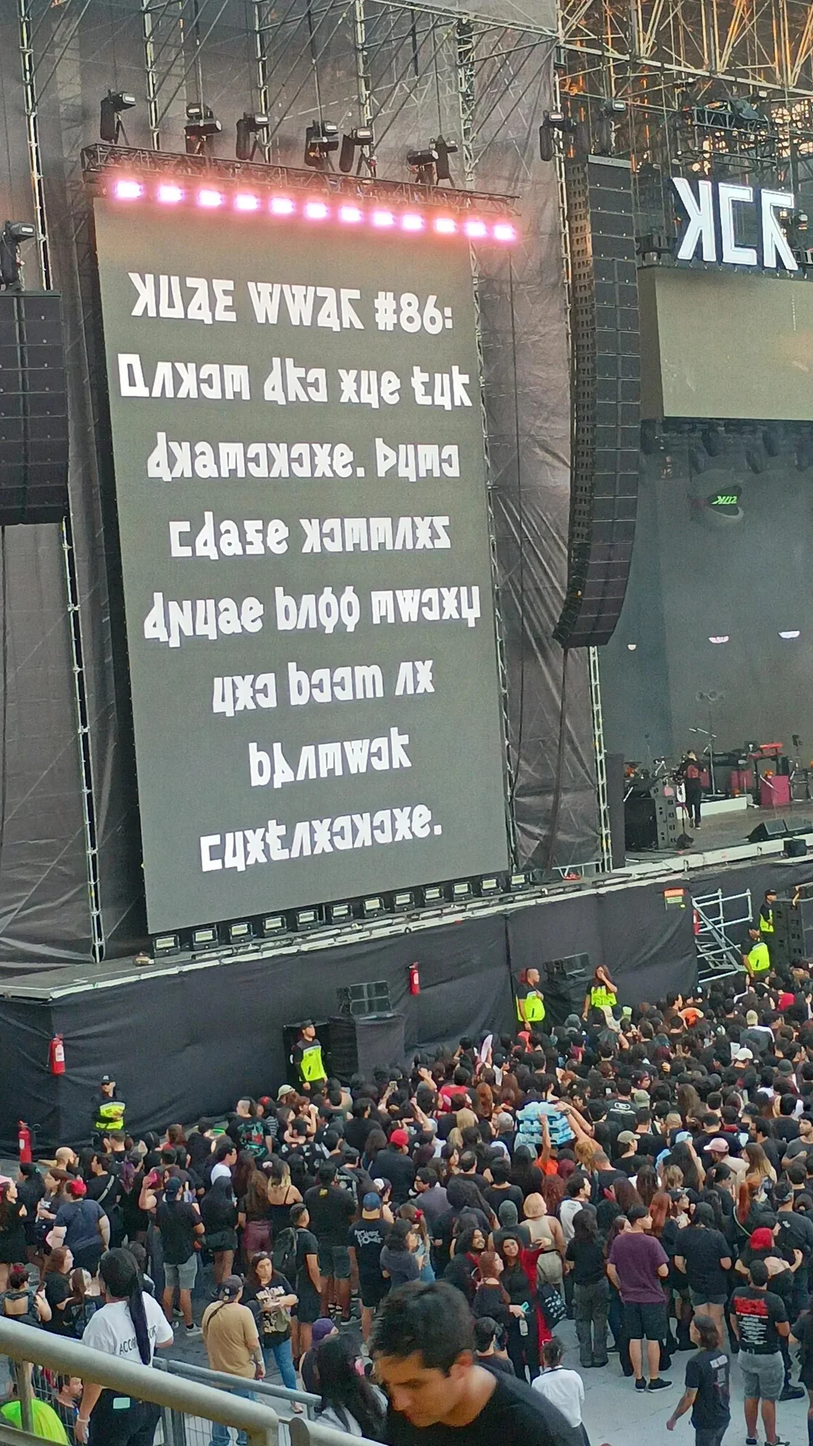6: (420, 291, 446, 337)
8: (397, 290, 423, 336)
A: (184, 273, 216, 325), (312, 282, 342, 336)
CH: (114, 351, 150, 400)
M: (121, 269, 158, 320)
O: (155, 271, 189, 320)
P: (280, 280, 318, 329), (246, 279, 283, 328)
R: (336, 283, 366, 336)
T: (210, 275, 241, 327)
TH: (373, 435, 399, 481)
a: (261, 355, 290, 408), (194, 507, 221, 562), (145, 430, 172, 484), (142, 590, 169, 643)
b: (167, 597, 193, 650)
c: (166, 516, 196, 560), (198, 831, 224, 872)
d: (459, 584, 483, 627)
e: (245, 439, 273, 482), (306, 362, 332, 407), (198, 359, 225, 401), (286, 439, 313, 481), (319, 514, 346, 556), (310, 665, 335, 707), (438, 441, 463, 482), (419, 586, 444, 624), (254, 671, 279, 709), (331, 813, 354, 854), (372, 807, 395, 848), (332, 664, 356, 703), (368, 735, 391, 773)
f: (409, 362, 434, 409), (265, 819, 291, 862)
g: (431, 514, 454, 550)
gh: (240, 514, 267, 557)
h: (270, 740, 296, 789)
i: (149, 358, 175, 401), (295, 591, 321, 630), (392, 514, 417, 554), (295, 742, 319, 783), (290, 818, 314, 858), (393, 661, 417, 697)
k: (354, 663, 387, 700)
l: (316, 584, 341, 635), (339, 584, 363, 634)
m: (167, 436, 193, 481), (173, 358, 200, 401), (296, 514, 322, 557), (268, 440, 293, 482), (351, 810, 375, 851)
n: (336, 366, 361, 407), (233, 673, 257, 715), (244, 826, 269, 866), (310, 439, 333, 482), (391, 805, 415, 846), (412, 514, 436, 554), (310, 816, 333, 856), (438, 585, 462, 622), (414, 657, 436, 695)
o: (193, 595, 220, 643), (222, 829, 248, 873), (211, 674, 236, 718), (432, 367, 455, 414), (359, 367, 382, 412), (396, 440, 419, 485)
p: (342, 735, 371, 776), (394, 587, 422, 626)
r: (284, 355, 310, 406), (390, 724, 416, 771), (450, 363, 473, 409)
s: (223, 360, 254, 404), (216, 439, 247, 481), (415, 441, 442, 483), (317, 739, 345, 779), (369, 587, 396, 628), (343, 516, 370, 555), (368, 515, 394, 554)
t: (264, 514, 291, 557), (331, 440, 357, 480), (240, 596, 266, 635), (380, 369, 404, 410), (411, 805, 434, 842)
u: (193, 438, 221, 483), (216, 596, 244, 639), (218, 516, 244, 559)
w: (271, 584, 299, 633), (285, 660, 311, 708), (246, 741, 272, 789)
